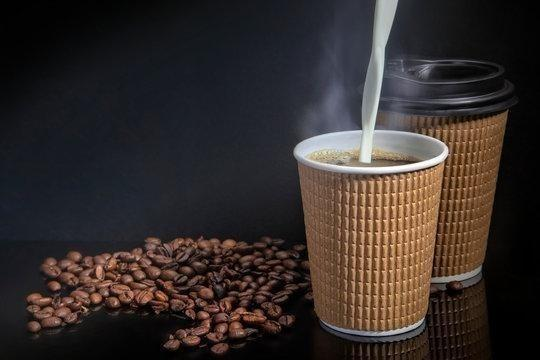cup-disposable: (355, 52, 520, 289), (290, 124, 451, 346)
